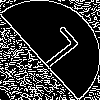L: (25, 25, 81, 76)
